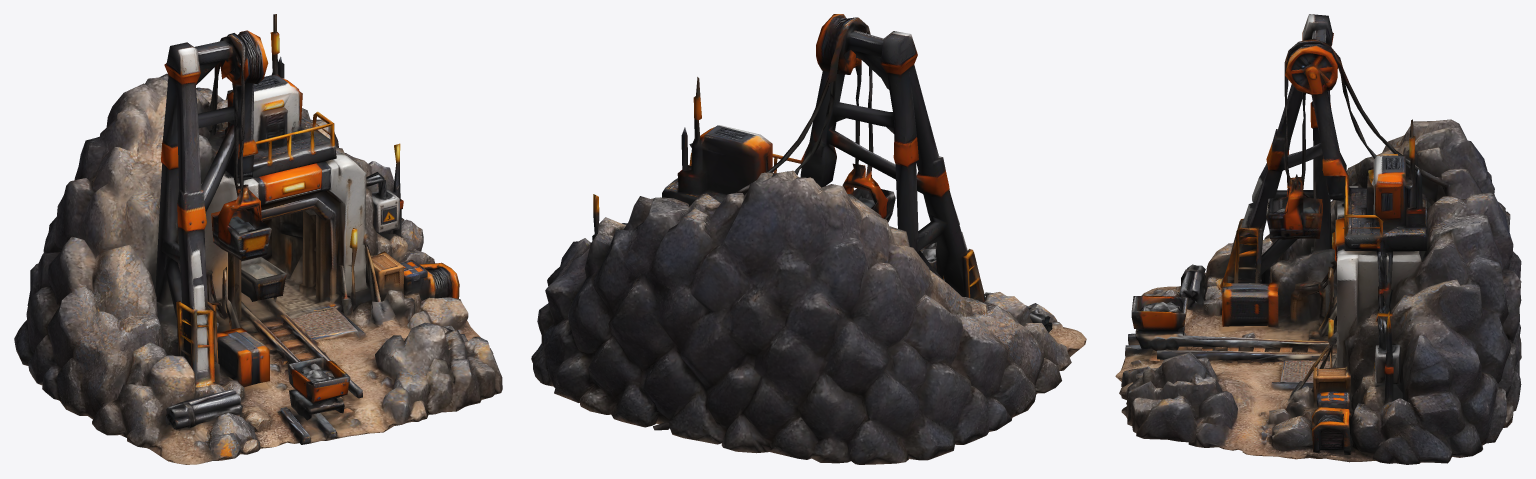
File: building-simple-pit-mine-l1.glb
3 views of the same model, side by side, from view 1: azimuth 30°, elevation 25°; view 2: azimuth 150°, elevation 25°; view 3: azimuth 270°, elevation 25° (orthographic). The views are drawn at different scales.
Visible parts, largest first — view 1: tripo_node_b3a198d2-33c5-4202-a5b7-f542a8098365; view 2: tripo_node_b3a198d2-33c5-4202-a5b7-f542a8098365; view 3: tripo_node_b3a198d2-33c5-4202-a5b7-f542a8098365.
Boxes of the visible parts, x1,y1,x2,y2 form: tripo_node_b3a198d2-33c5-4202-a5b7-f542a8098365: [14, 14, 502, 464]; tripo_node_b3a198d2-33c5-4202-a5b7-f542a8098365: [531, 14, 1086, 464]; tripo_node_b3a198d2-33c5-4202-a5b7-f542a8098365: [1115, 14, 1521, 464].
Bounding box in the file's own units: 0.9825 × 0.7698 × 0.8949.
Materials: 1 (1 with a texture image).
